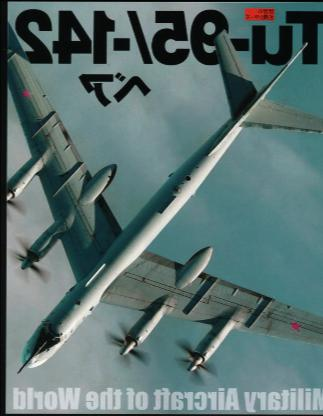Su57: (6, 19, 322, 386)
